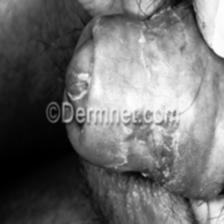Toxin: (125, 104, 180, 184)
